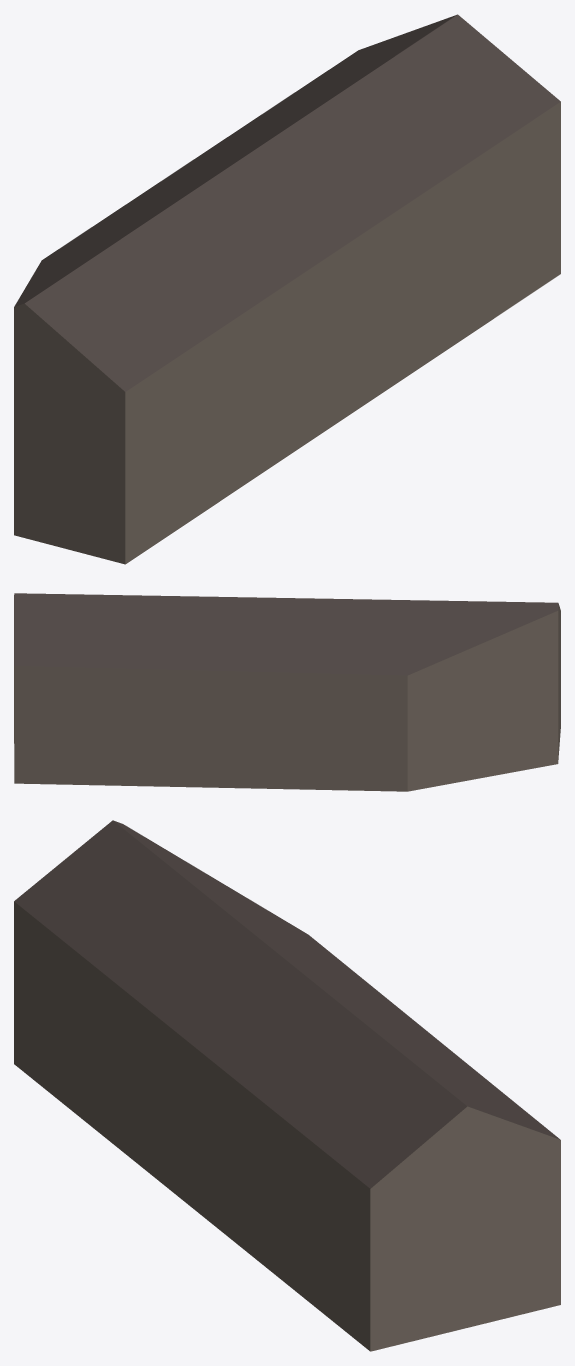
The picture shows the model from 3 angles, top to bottom: view 1: azimuth 30°, elevation 25°; view 2: azimuth 150°, elevation 25°; view 3: azimuth 270°, elevation 25°; orthographic projection. The views are drawn at different scales.
Visible parts, largest first — view 1: HP-w1197841107; view 2: HP-w1197841107; view 3: HP-w1197841107.
Boxes of the visible parts, x1=… form: HP-w1197841107: x1=14, y1=14, x2=560, y2=564; HP-w1197841107: x1=14, y1=593, x2=560, y2=791; HP-w1197841107: x1=14, y1=820, x2=560, y2=1351.
Size of the model in its own units: 24.69 by 8.16 by 18.27.
